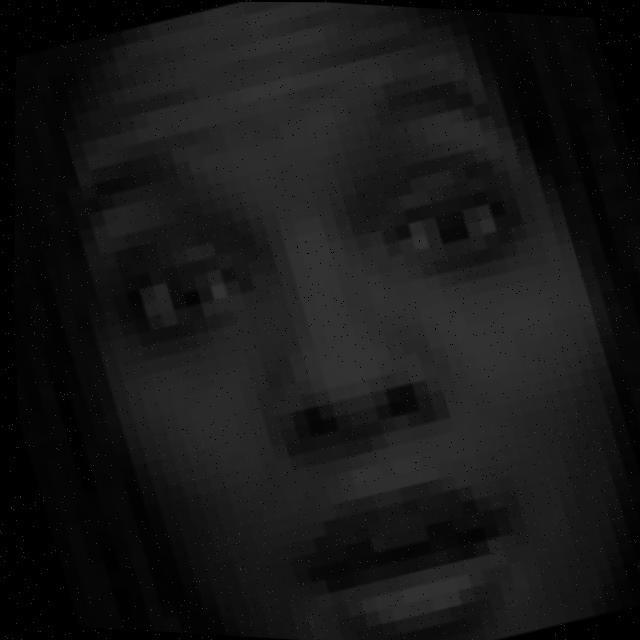Surprised: (82, 86, 605, 640)
